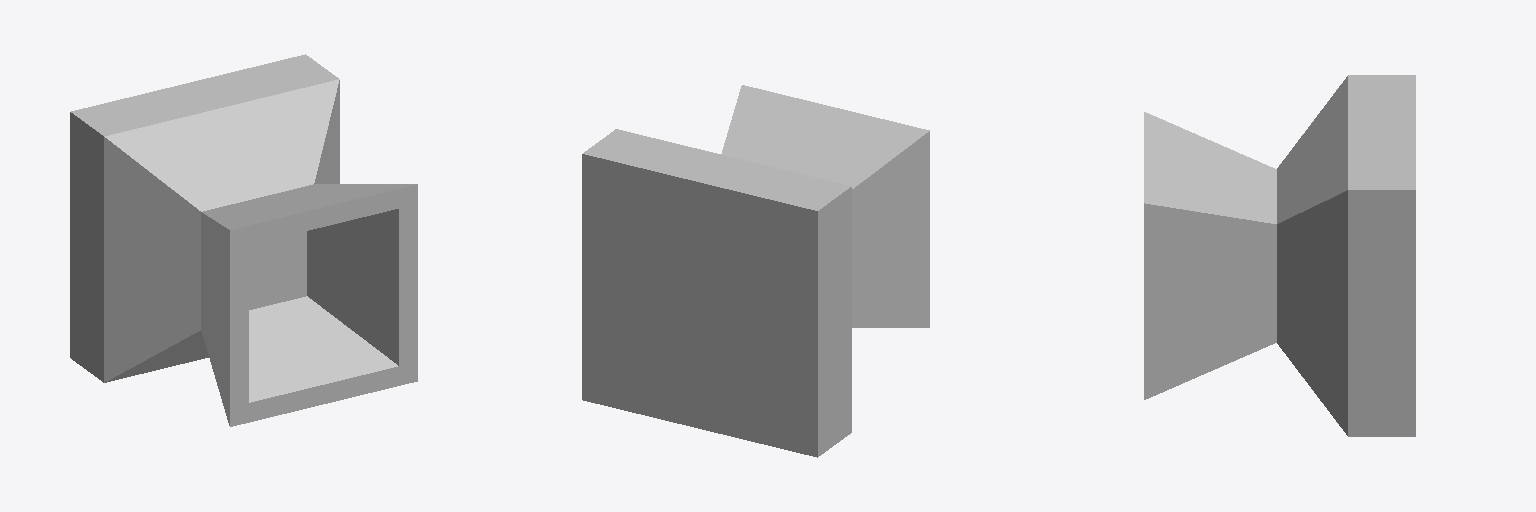
Rendered from thruster_rocket.obj.
3 renders of one model, left to right at view 1: azimuth 30°, elevation 25°; view 2: azimuth 150°, elevation 25°; view 3: azimuth 270°, elevation 25°, orthographic.
Visible parts, largest first — view 1: thruster_rocket_Cube; view 2: thruster_rocket_Cube; view 3: thruster_rocket_Cube.
Part boxes in pixels (bbox=[...]): thruster_rocket_Cube: bbox=[70, 54, 417, 426]; thruster_rocket_Cube: bbox=[582, 85, 929, 457]; thruster_rocket_Cube: bbox=[1144, 75, 1415, 436].
Bounding box in the file's own units: 1 × 1 × 1.